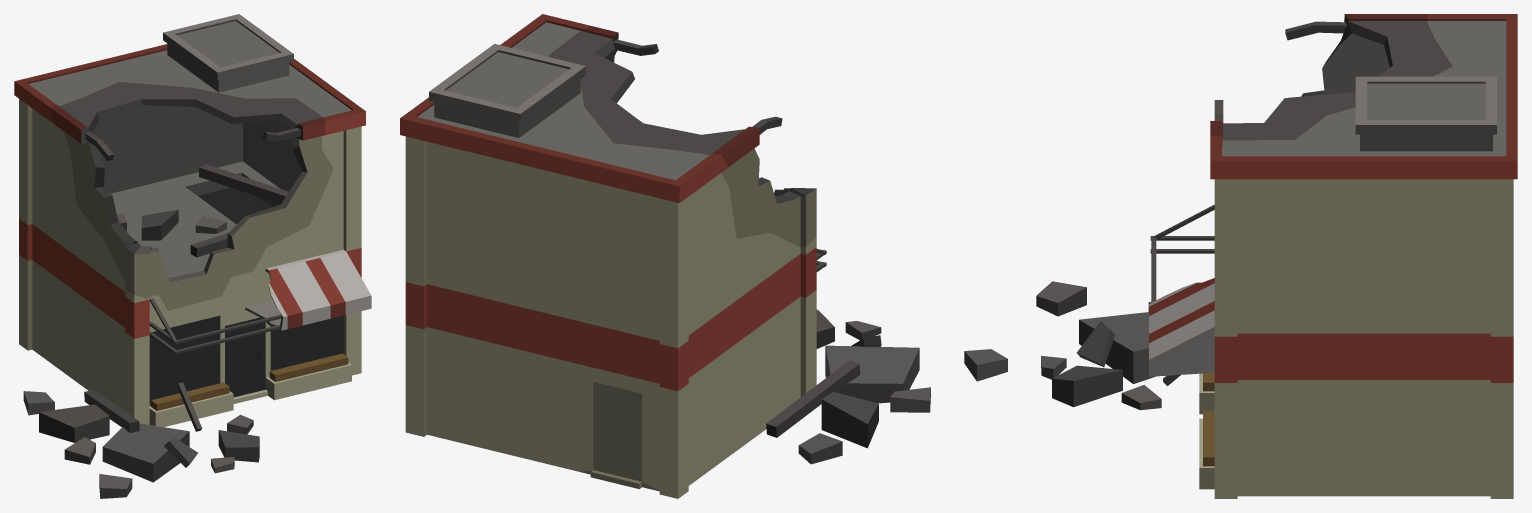
File: SA_Bld_Shop_Damaged_01.gltf
3 renders of one model, left to right at view 1: azimuth 30°, elevation 25°; view 2: azimuth 150°, elevation 25°; view 3: azimuth 270°, elevation 25°, orthographic. The views are drawn at different scales.
Parts seen in each view (by area): view 1: SA_Bld_Shop_Damaged_01; view 2: SA_Bld_Shop_Damaged_01; view 3: SA_Bld_Shop_Damaged_01.
Part boxes in pixels (x1,y1,x2,y2): SA_Bld_Shop_Damaged_01: (14,14,371,498); SA_Bld_Shop_Damaged_01: (400,14,1007,498); SA_Bld_Shop_Damaged_01: (1036,14,1517,498).
Size of the model in its own units: 16.32 by 13.99 by 16.09.
Materials: 1 (1 with a texture image).
